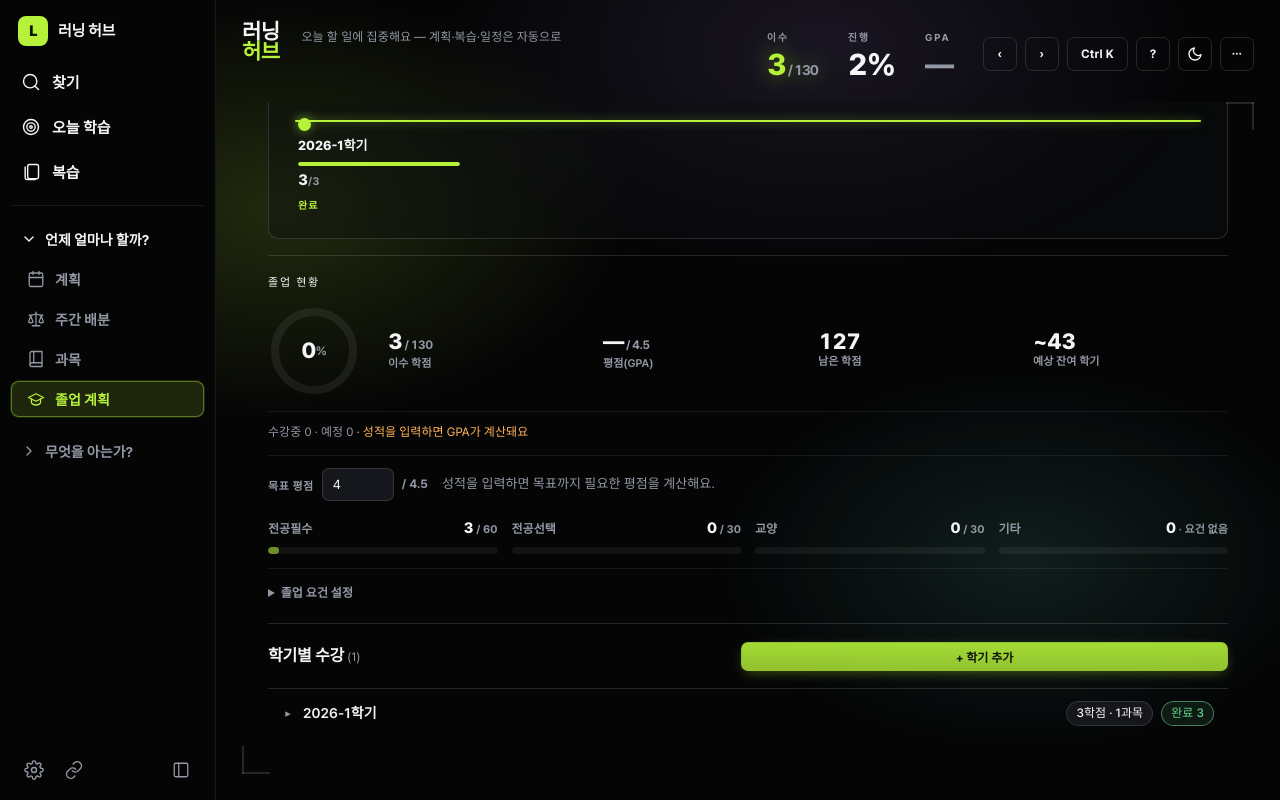
날짜가 있으면 셀렉트가 잠기고 파생값을 보여 준다 — 화면이 우선순위를 말한다
This screenshot has width=1280, height=800.
(page scrolled)
Click the text with class "ds-itemname": point(340, 713) [303, 705, 377, 721]
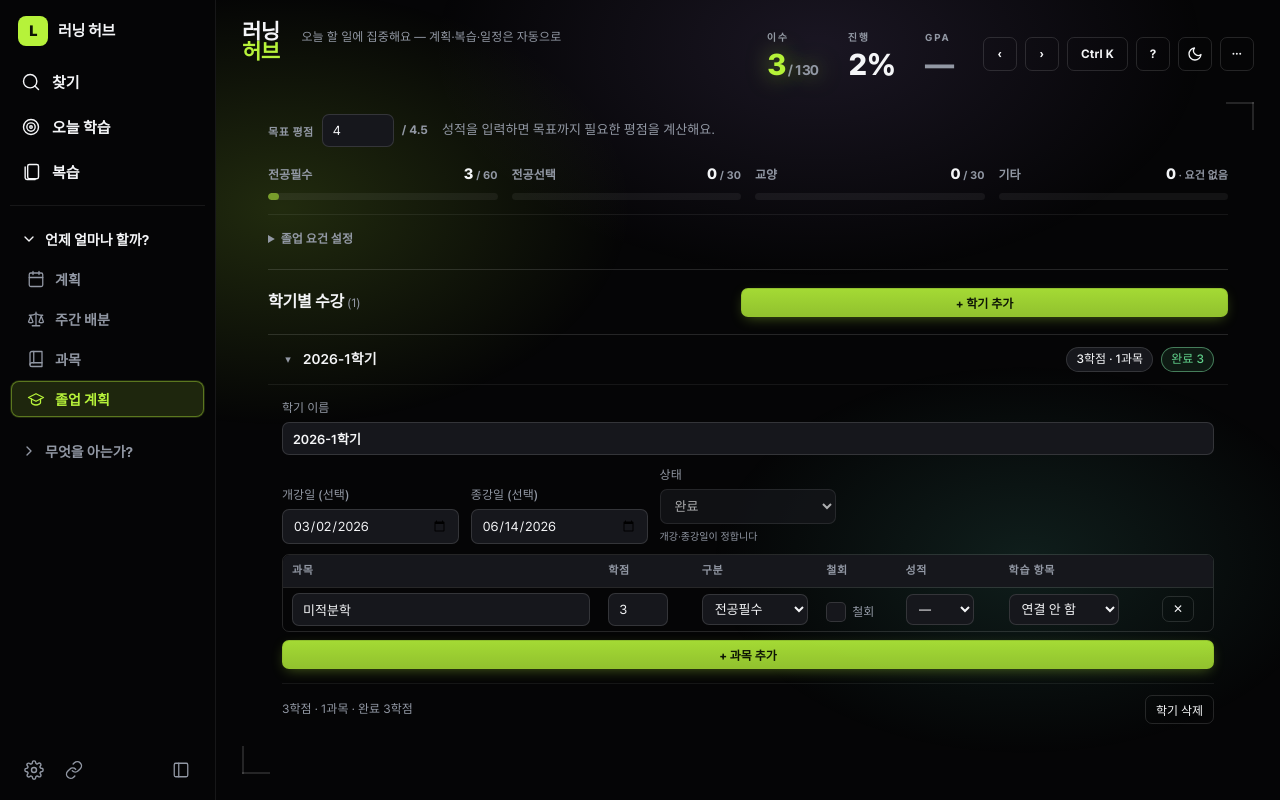
Expected: the number field named "학점" is shown, [608, 593, 668, 626]
Expected: the dropdown labelled "상태" is disabled, [660, 489, 836, 524]
Expected: the dropdown labelled "상태" shows "완료", [660, 489, 836, 524]
